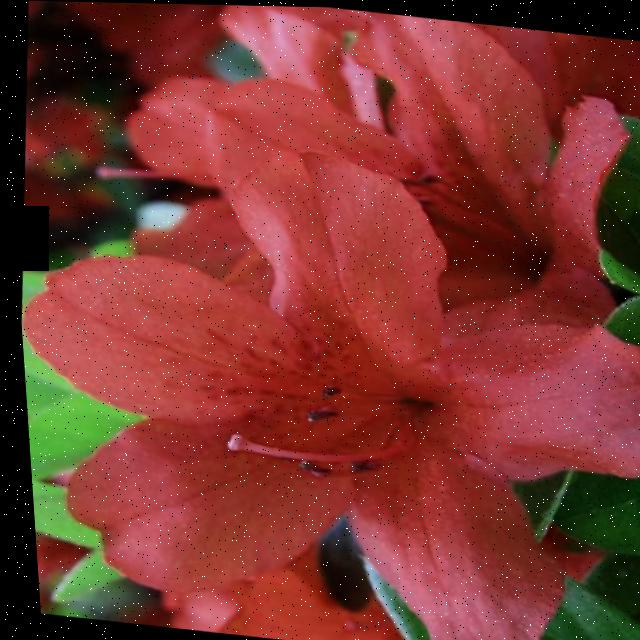azalea: (8, 2, 640, 640)
